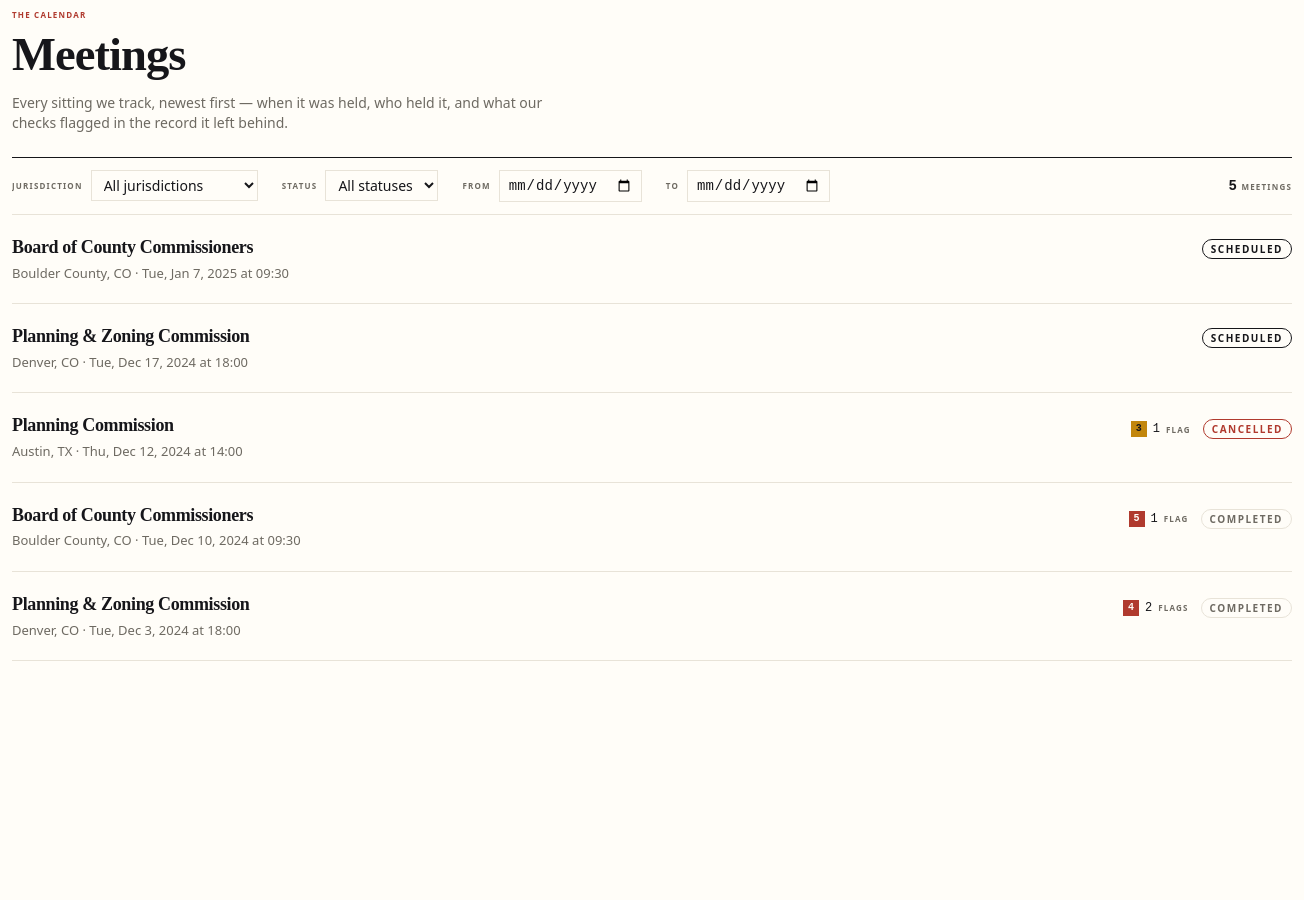
it: MeetingsPage › reports an empty calendar rather than rendering nothing
Expected: the element named "Planning & Zoning Commission, Tue, Dec 3, 2024" is shown, x1=12 y1=572 x2=1292 y2=661
Select "Austin, TX" in the dropdown labelled "Jurisdiction" at {"x": 174, "y": 186}, box x1=91 y1=170 x2=258 y2=201
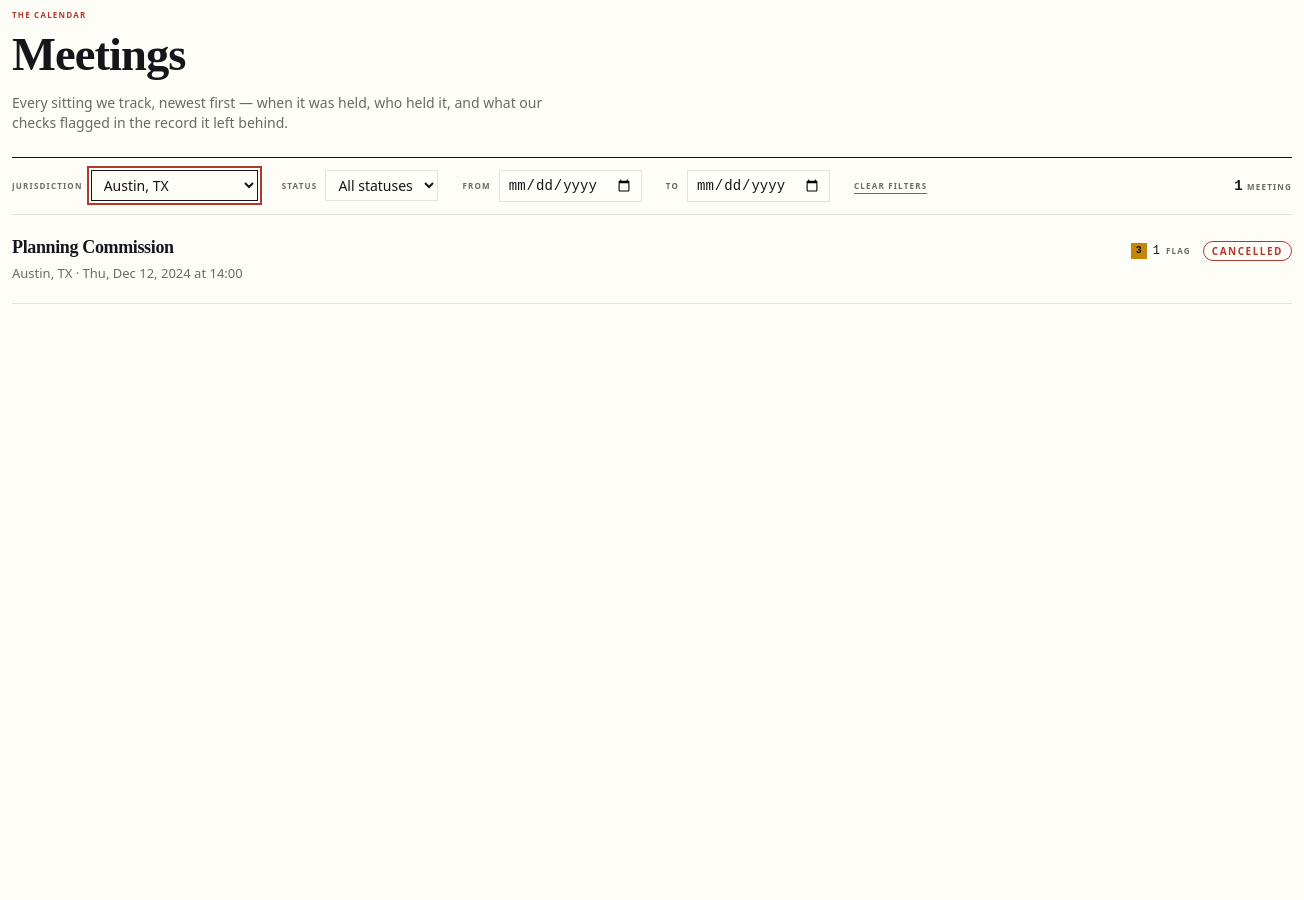
Select "Scheduled" in the dropdown labelled "Status" at {"x": 382, "y": 186}, box x1=325 y1=170 x2=438 y2=201
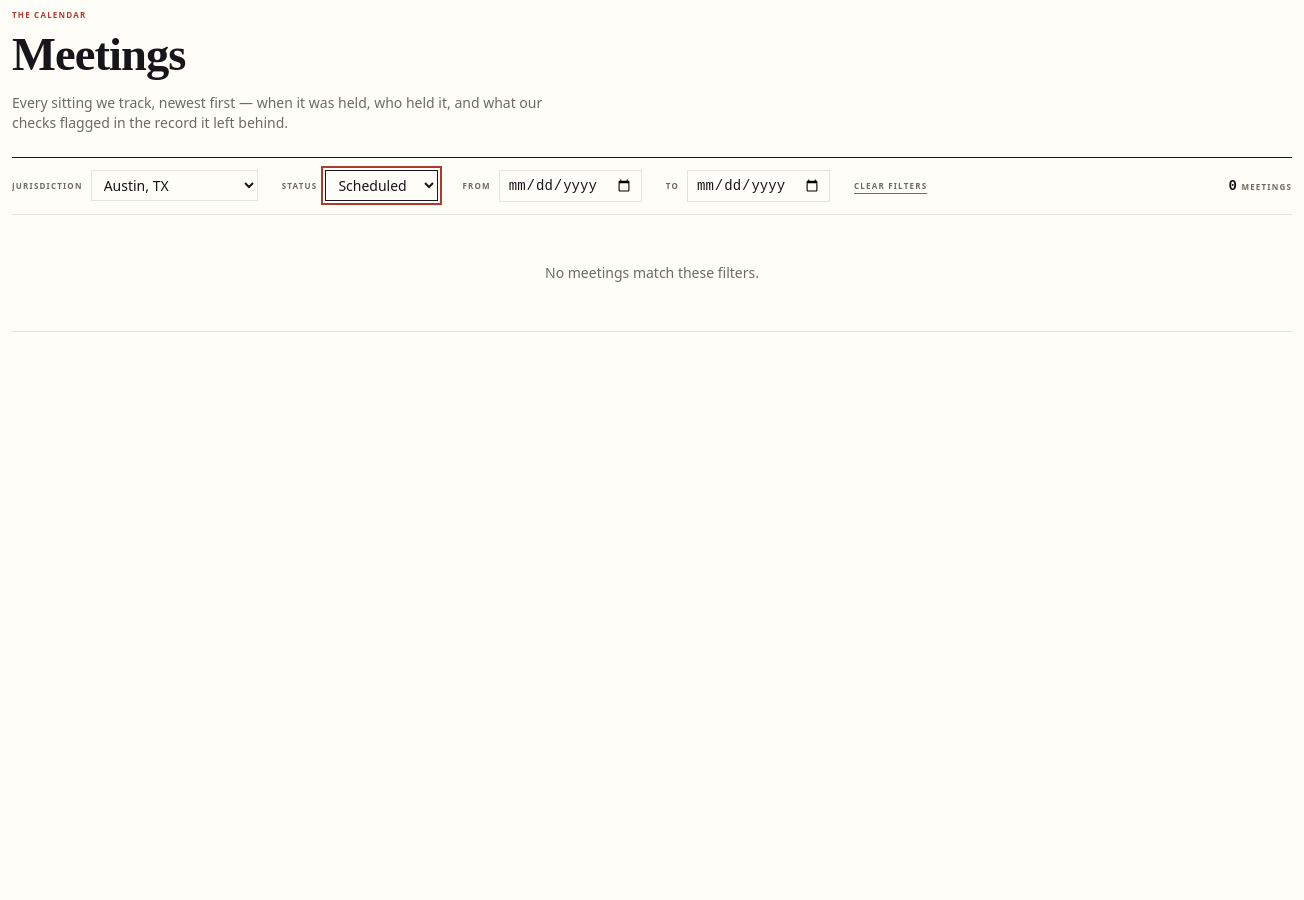
Expected: the text "No meetings match these filters." is shown, x1=12 y1=215 x2=1292 y2=332
